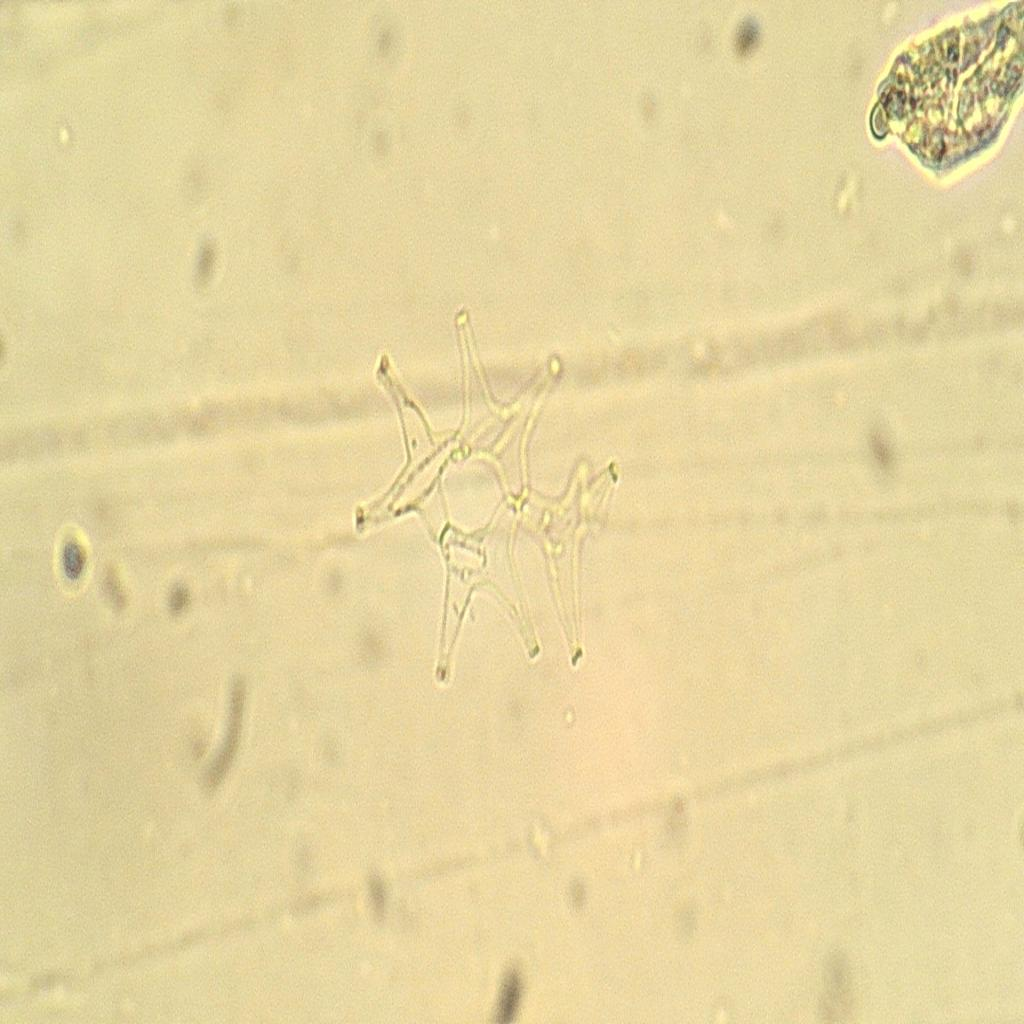Pediastrum_1F0: (340, 264, 628, 728)
